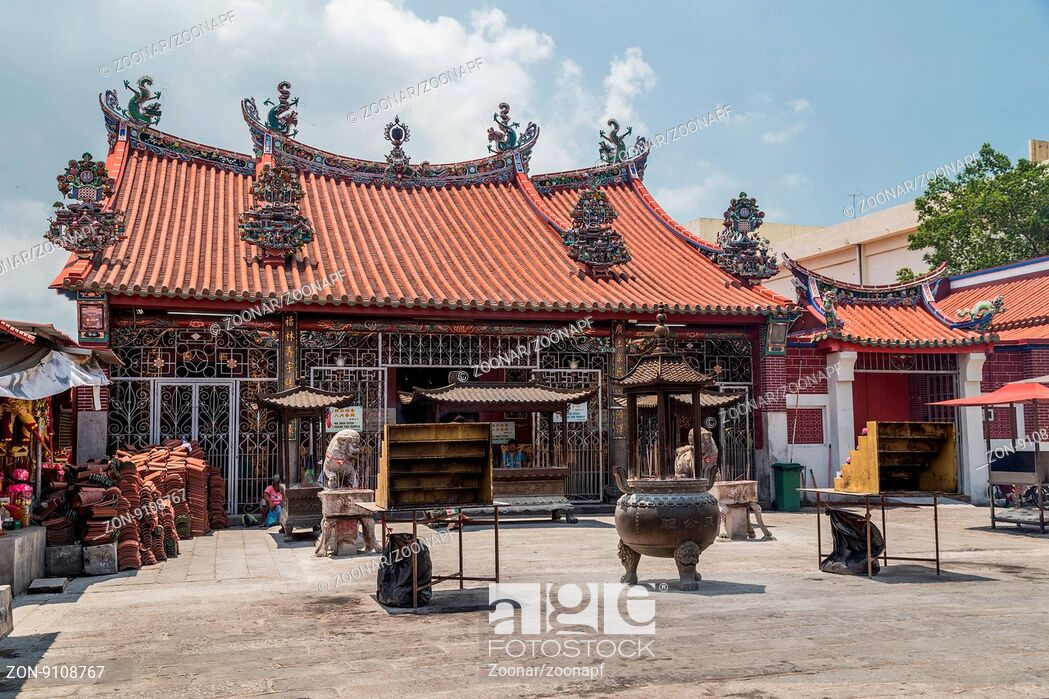Buddhist Temple: (50, 55, 779, 499)
